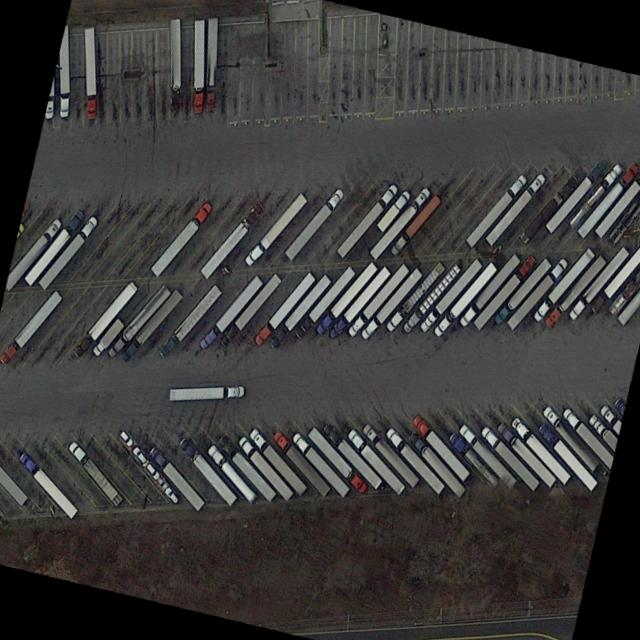large-vehicle: (71, 280, 136, 358), (198, 200, 262, 279), (432, 261, 496, 338), (575, 162, 638, 240), (242, 192, 306, 268), (197, 275, 261, 350), (471, 255, 534, 331), (156, 284, 220, 358), (106, 284, 169, 359), (543, 158, 606, 233), (543, 253, 605, 329), (0, 289, 61, 366), (118, 288, 180, 363), (149, 202, 211, 277), (417, 258, 479, 333), (346, 262, 408, 337), (335, 183, 397, 258), (463, 173, 525, 248), (314, 262, 376, 336), (457, 253, 519, 327), (282, 188, 344, 262), (368, 186, 430, 260), (268, 274, 329, 349), (532, 248, 593, 323), (327, 266, 389, 339), (359, 267, 420, 341), (484, 172, 545, 246), (253, 271, 313, 346), (567, 246, 627, 321), (23, 210, 82, 286), (218, 273, 279, 346), (293, 265, 354, 338), (506, 257, 566, 331), (37, 215, 96, 290), (400, 263, 460, 334), (509, 415, 569, 485), (535, 422, 595, 491), (384, 262, 443, 332), (305, 426, 365, 494), (491, 257, 550, 326), (177, 436, 235, 506), (321, 423, 381, 490), (17, 451, 76, 519), (384, 427, 443, 495), (478, 426, 538, 492), (289, 431, 348, 498), (456, 423, 515, 490), (345, 428, 403, 496), (247, 428, 305, 496), (216, 434, 274, 502), (406, 431, 464, 499), (495, 422, 555, 487), (411, 415, 468, 483), (541, 405, 598, 472), (271, 430, 328, 497), (359, 423, 417, 488), (66, 439, 121, 507), (146, 446, 203, 511), (589, 243, 640, 315), (236, 436, 292, 501), (593, 171, 640, 239), (388, 194, 439, 256), (205, 444, 255, 505), (446, 432, 497, 489), (375, 189, 409, 233), (90, 317, 123, 357), (167, 386, 242, 401), (82, 27, 94, 119), (192, 19, 203, 113), (204, 18, 215, 110), (167, 19, 178, 111)
small-vehicle: (130, 445, 146, 464), (143, 462, 159, 480), (117, 429, 133, 447), (162, 485, 177, 504)
